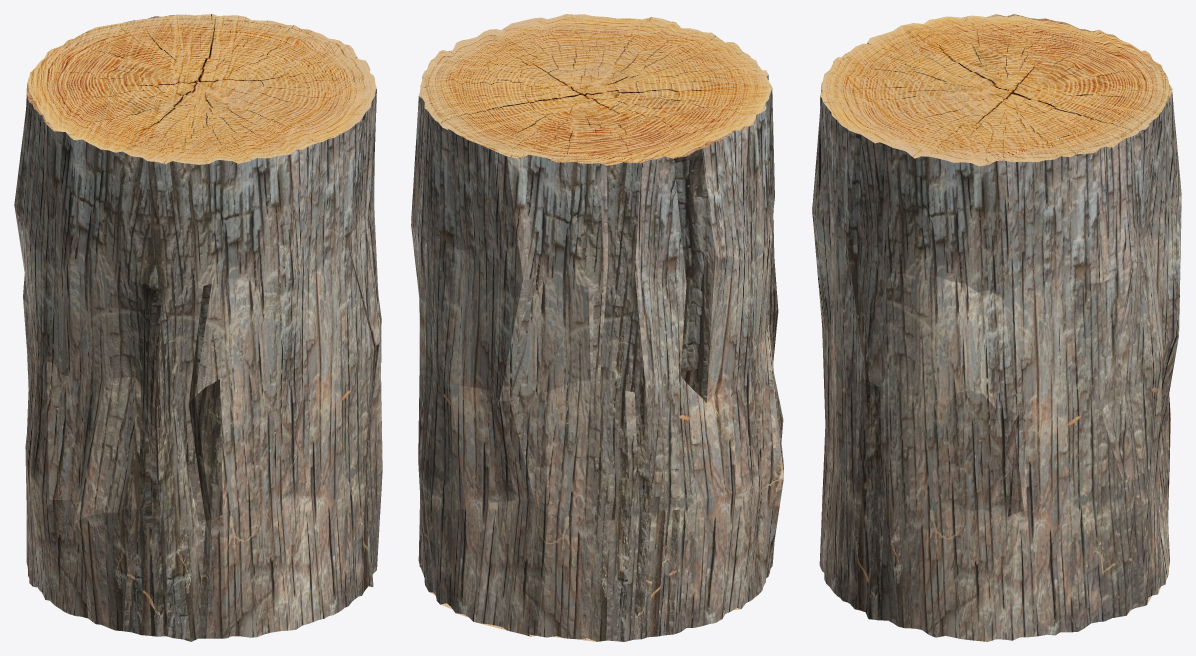
Rendered from Tree log seat.fbx.
3 renders of one model, left to right at view 1: azimuth 30°, elevation 25°; view 2: azimuth 150°, elevation 25°; view 3: azimuth 270°, elevation 25°, orthographic.
Parts seen in each view (by area): view 1: Cylinder; view 2: Cylinder; view 3: Cylinder.
Part boxes in pixels (box(x1,y1,x2,y2)): Cylinder: box(14, 14, 382, 641); Cylinder: box(411, 14, 783, 641); Cylinder: box(812, 14, 1181, 641).
Bounding box in the file's own units: 2.1 × 3.04 × 2.11.
